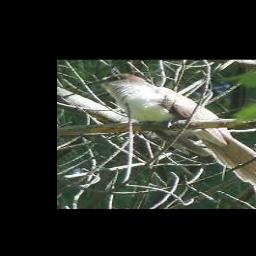Cuckoo: (82, 74, 256, 188)
